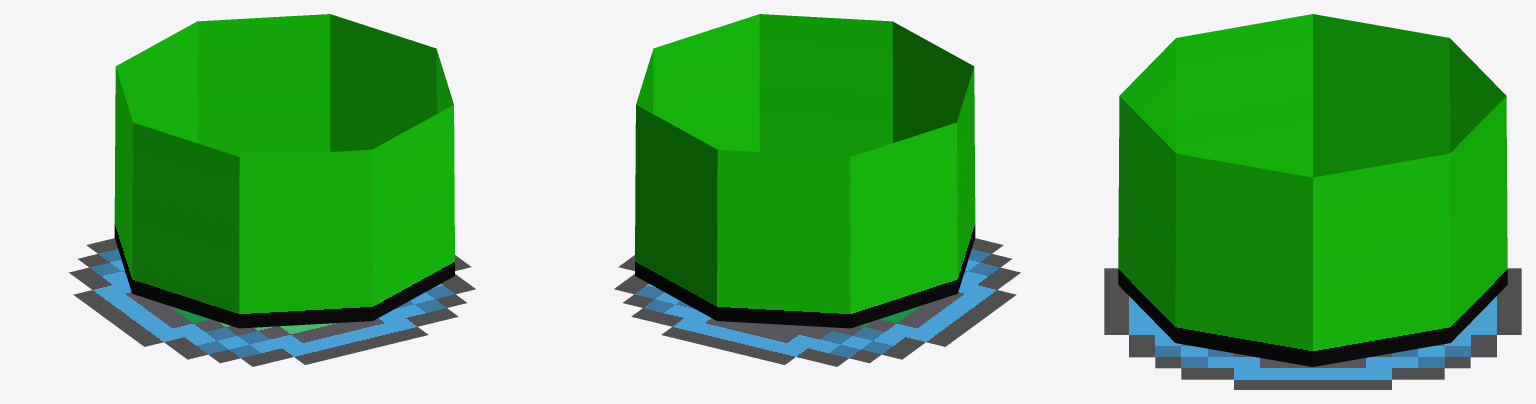
The model's file is Warp Panel 2.obj.
3 views of the same model, side by side, from view 1: azimuth 30°, elevation 25°; view 2: azimuth 150°, elevation 25°; view 3: azimuth 270°, elevation 25° (orthographic). The views are drawn at different scales.
Parts seen in each view (by area): view 1: polygon1, polygon0; view 2: polygon1, polygon0; view 3: polygon1, polygon0.
Part boxes in pixels (x1=…): polygon1: x1=114, y1=14, x2=454, y2=328; polygon0: x1=69, y1=238, x2=475, y2=366; polygon1: x1=635, y1=14, x2=975, y2=328; polygon0: x1=614, y1=238, x2=1020, y2=366; polygon1: x1=1118, y1=14, x2=1507, y2=366; polygon0: x1=1104, y1=268, x2=1521, y2=389.
Size of the model in its own units: 16.07 by 8.99 by 16.
Materials: 2 (2 with a texture image).
